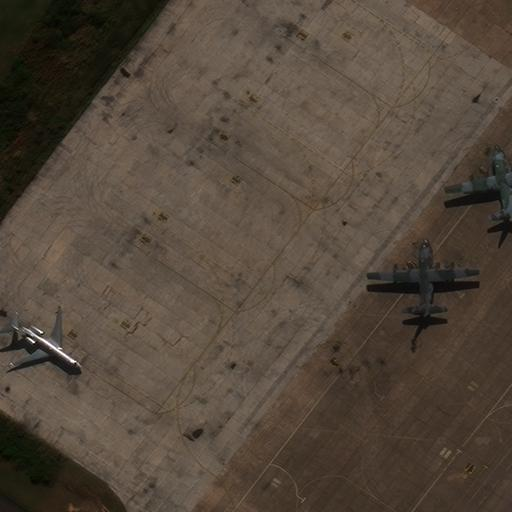Medium Civil Transport: (7, 307, 79, 367)
Military Transport: (366, 239, 478, 315), (443, 146, 512, 220)
